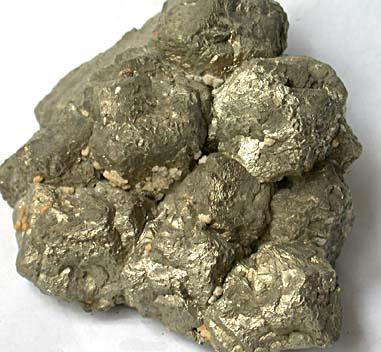pyrite: (0, 0, 364, 352)
